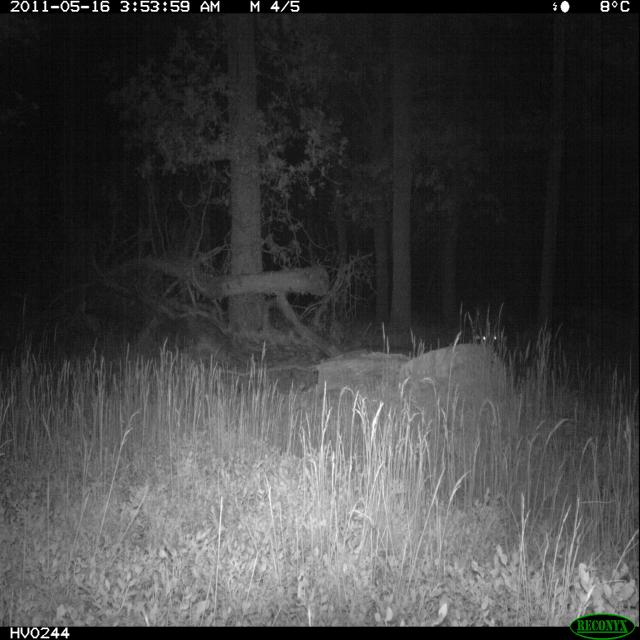boar: (396, 344, 517, 412), (466, 291, 513, 372)
